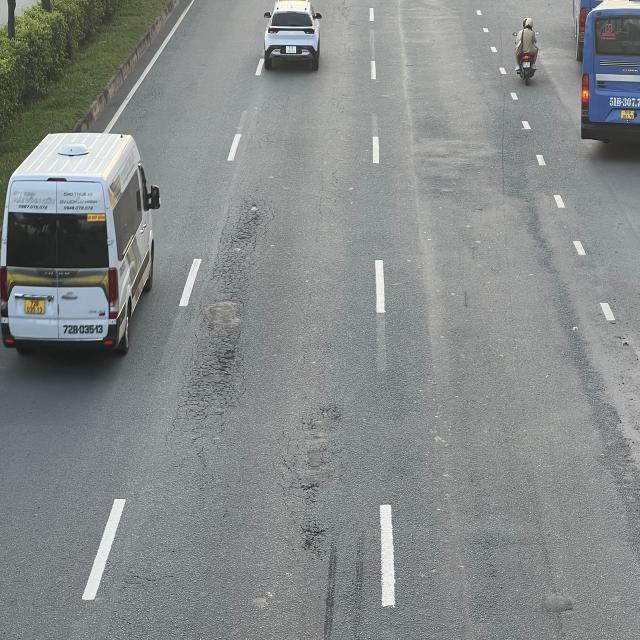car: (262, 0, 322, 68)
coach: (579, 1, 640, 143)
van: (0, 133, 160, 358)
